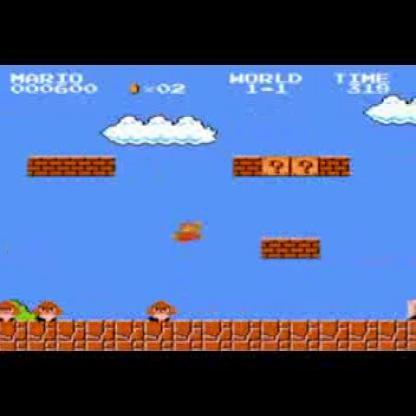Goomba: (144, 299, 178, 323), (35, 299, 64, 323), (0, 297, 23, 322)
